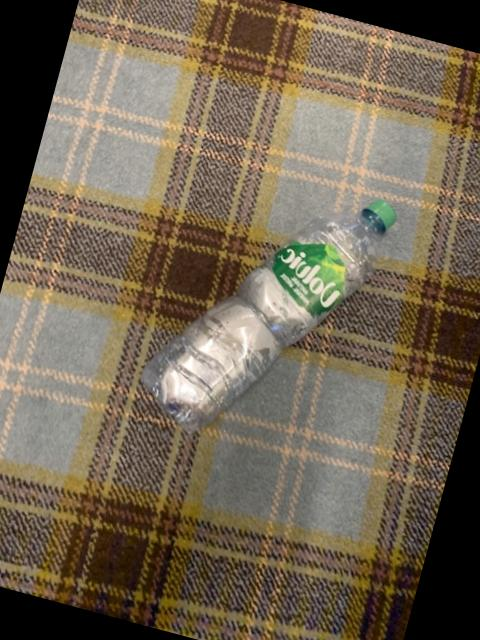plastic: (142, 199, 396, 429)
